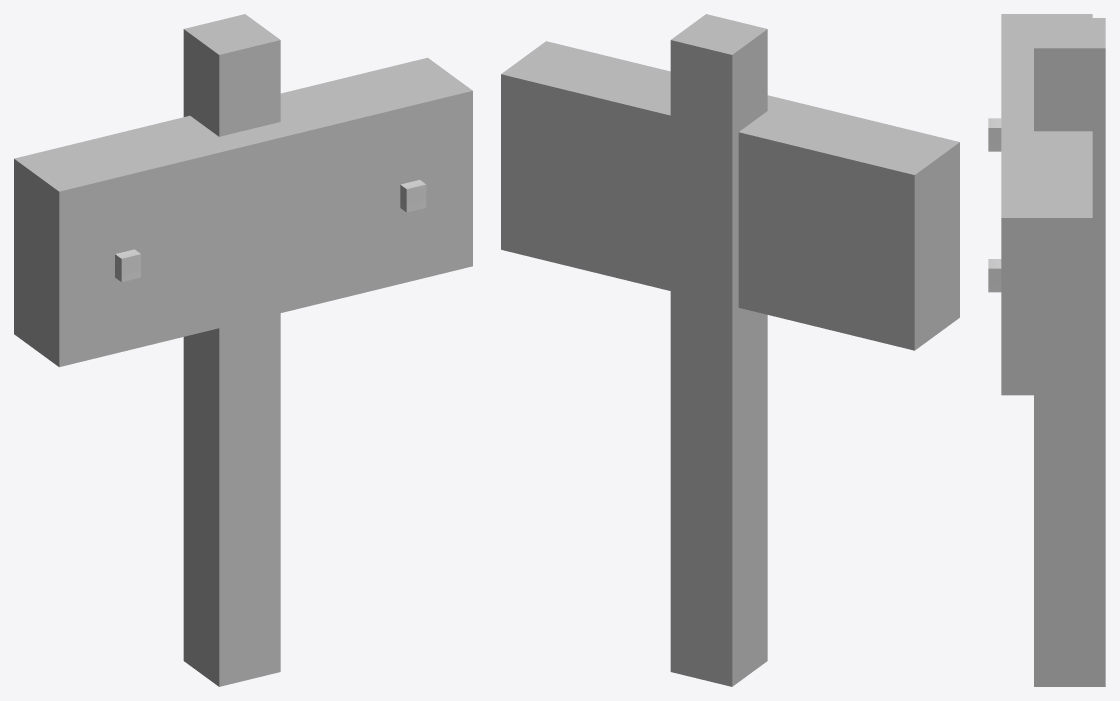
File: pen_marker.obj
3 views of the same model, side by side, from view 1: azimuth 30°, elevation 25°; view 2: azimuth 150°, elevation 25°; view 3: azimuth 270°, elevation 25° (orthographic).
Parts seen in each view (by area): view 1: pen_marker; view 2: pen_marker; view 3: pen_marker.
Boxes of the visible parts, x1,y1,x2,y2 form: pen_marker: [14, 14, 472, 686]; pen_marker: [501, 14, 959, 686]; pen_marker: [988, 14, 1105, 686].
Size of the model in its own units: 0.74 by 1.08 by 0.18.
